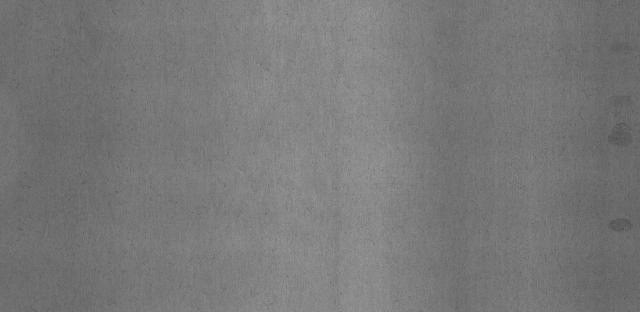oil_spot: (602, 92, 640, 148), (604, 215, 638, 233)
